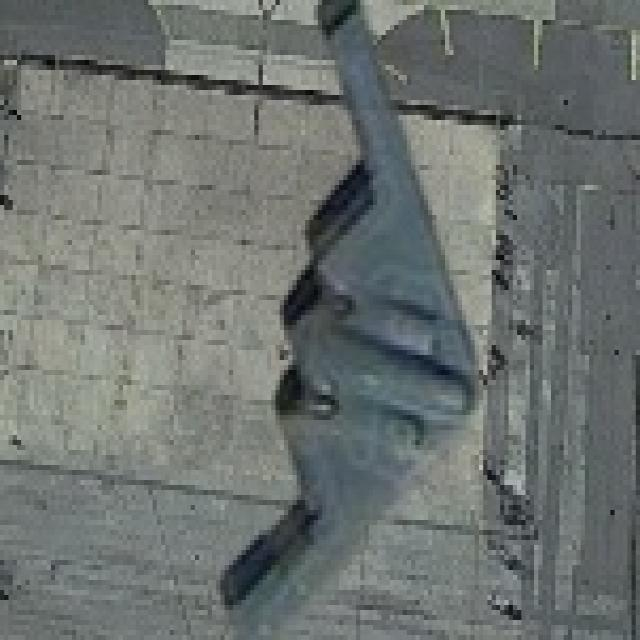B-2_TopDown: (208, 0, 483, 610)
